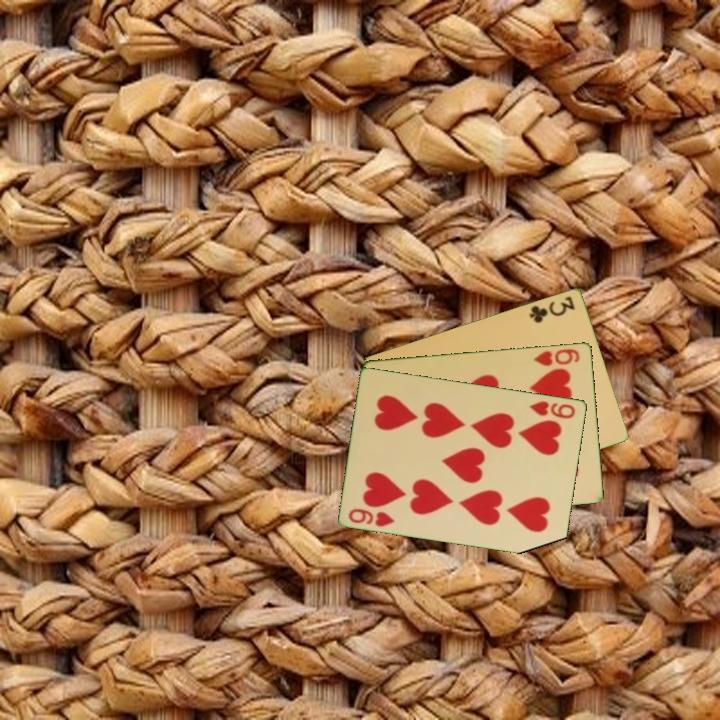3c: (526, 292, 578, 326)
6h: (530, 345, 583, 369)
9h: (345, 505, 398, 529), (526, 397, 578, 421)
